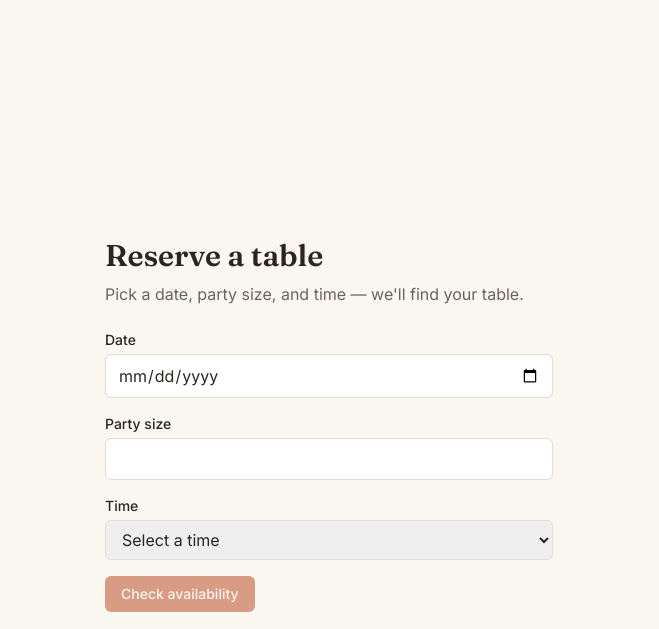
Test: guest booking flow › books a table end-to-end from the homepage to the confirmation page
In the date field labelled "Date": (329, 376) [105,354,553,398], type "2026-08-01"
In the number field labelled "Party size": (329, 459) [105,438,553,480], type "2"
Select "Lunch 12:00" in the dropdown labelled "Time": (329, 540) [105,520,553,560]
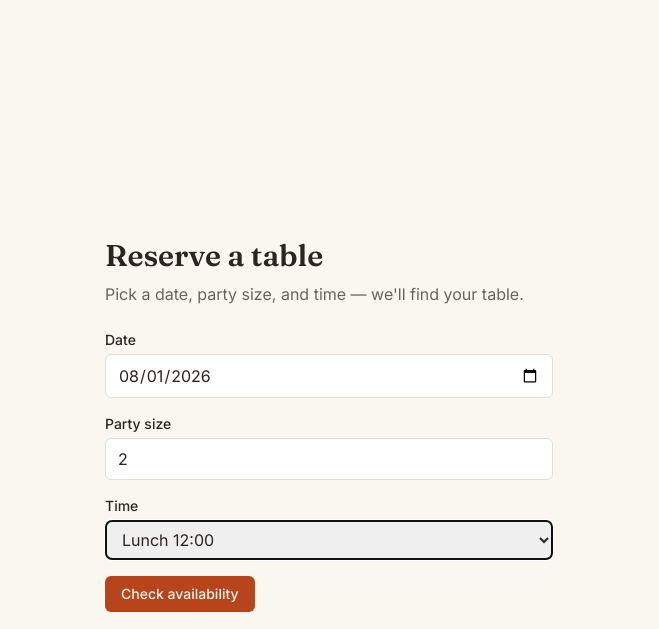
Click the button "Check availability": (180, 594) [105,576,254,612]
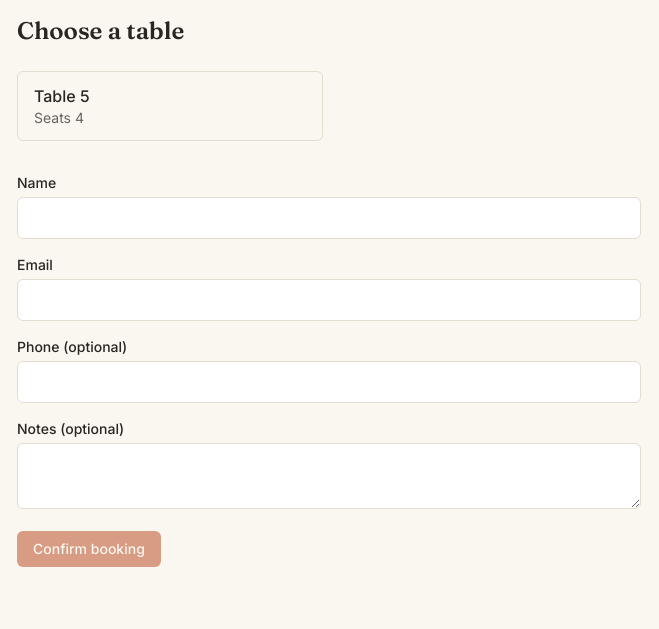
Click the text "Table 5": (62, 96) [34,86,90,106]
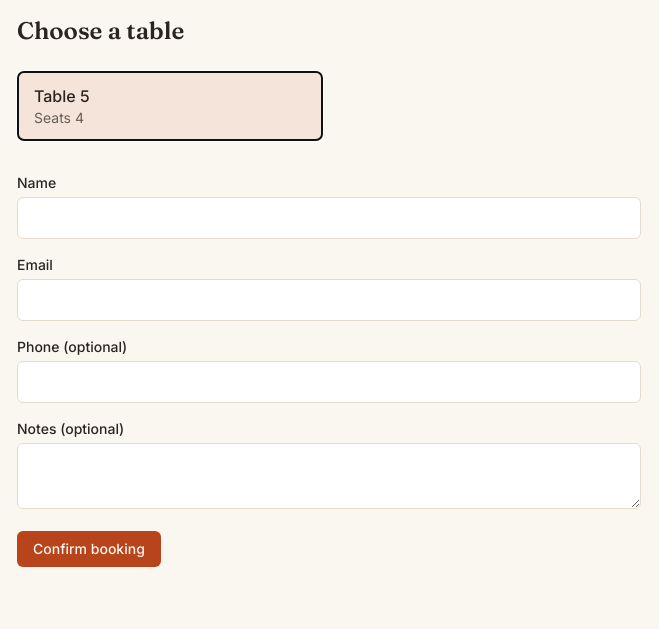
In the field labelled "Name": (329, 218) [17,197,641,239], type "Jane Doe"
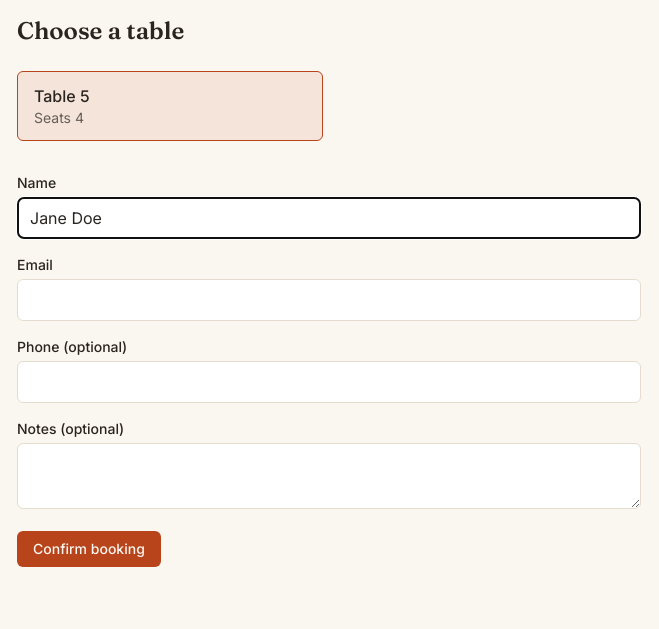
In the field labelled "Email": (329, 300) [17,279,641,321], type "jane@example.com"
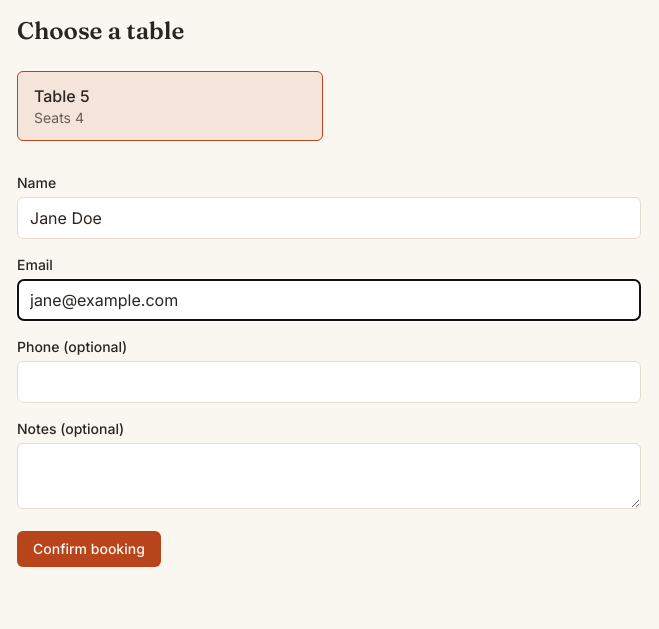
Click the button "Confirm booking": (89, 549) [17,531,161,567]
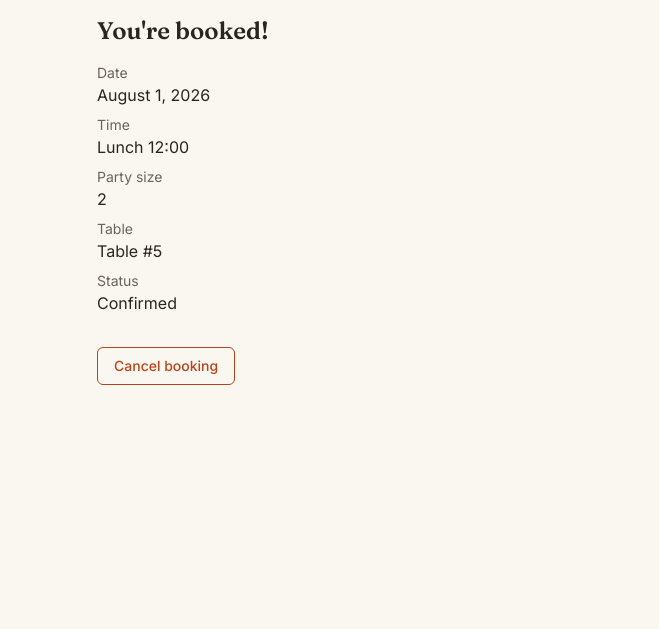
Expected: the heading "You're booked!" is shown, [97,16,269,45]
Expected: the text "Lunch 12:00" is shown, [97,137,189,157]
